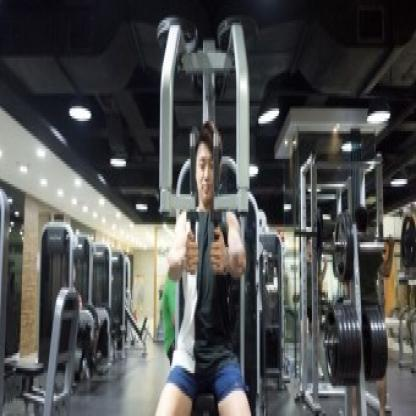chest fly machine: (144, 8, 258, 416)
